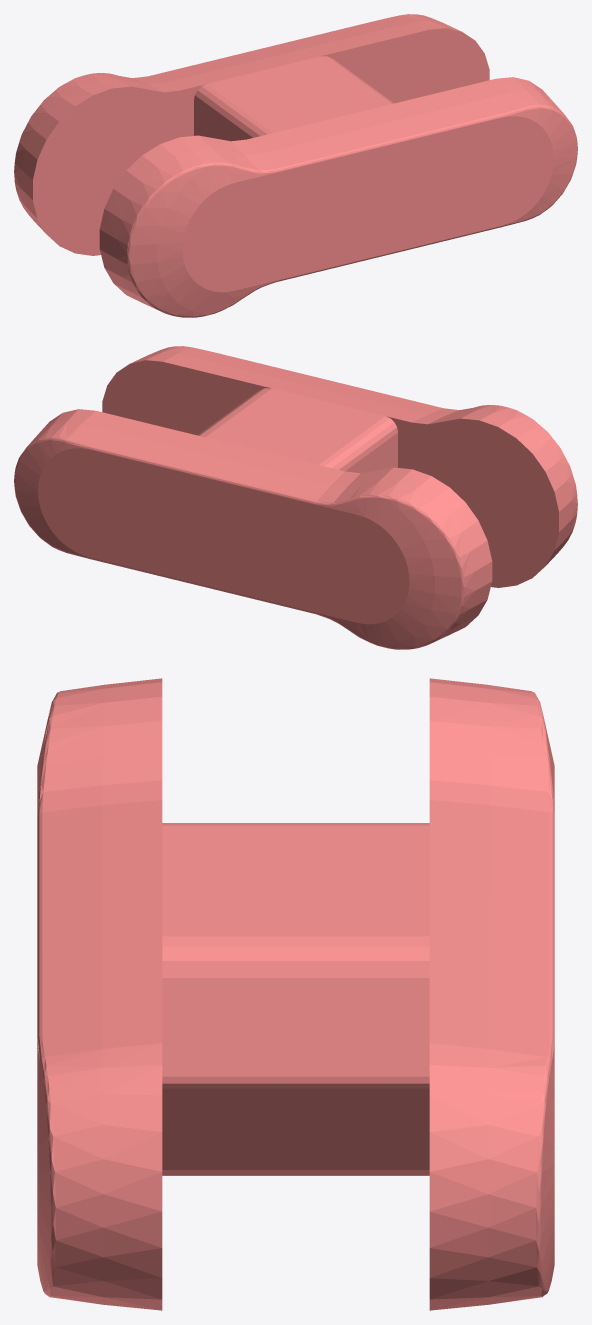
File: body2_2.obj
3 renders of one model, top to bottom at view 1: azimuth 30°, elevation 25°; view 2: azimuth 150°, elevation 25°; view 3: azimuth 270°, elevation 25°, orthographic. The views are drawn at different scales.
Visible parts, largest first — view 1: Body2.001; view 2: Body2.001; view 3: Body2.001.
Boxes of the visible parts, box(x1,y1,x2,y2) form: Body2.001: box(14, 14, 577, 317); Body2.001: box(14, 346, 577, 649); Body2.001: box(37, 678, 554, 1310).
Size of the model in its own units: 359 by 124 by 176.
